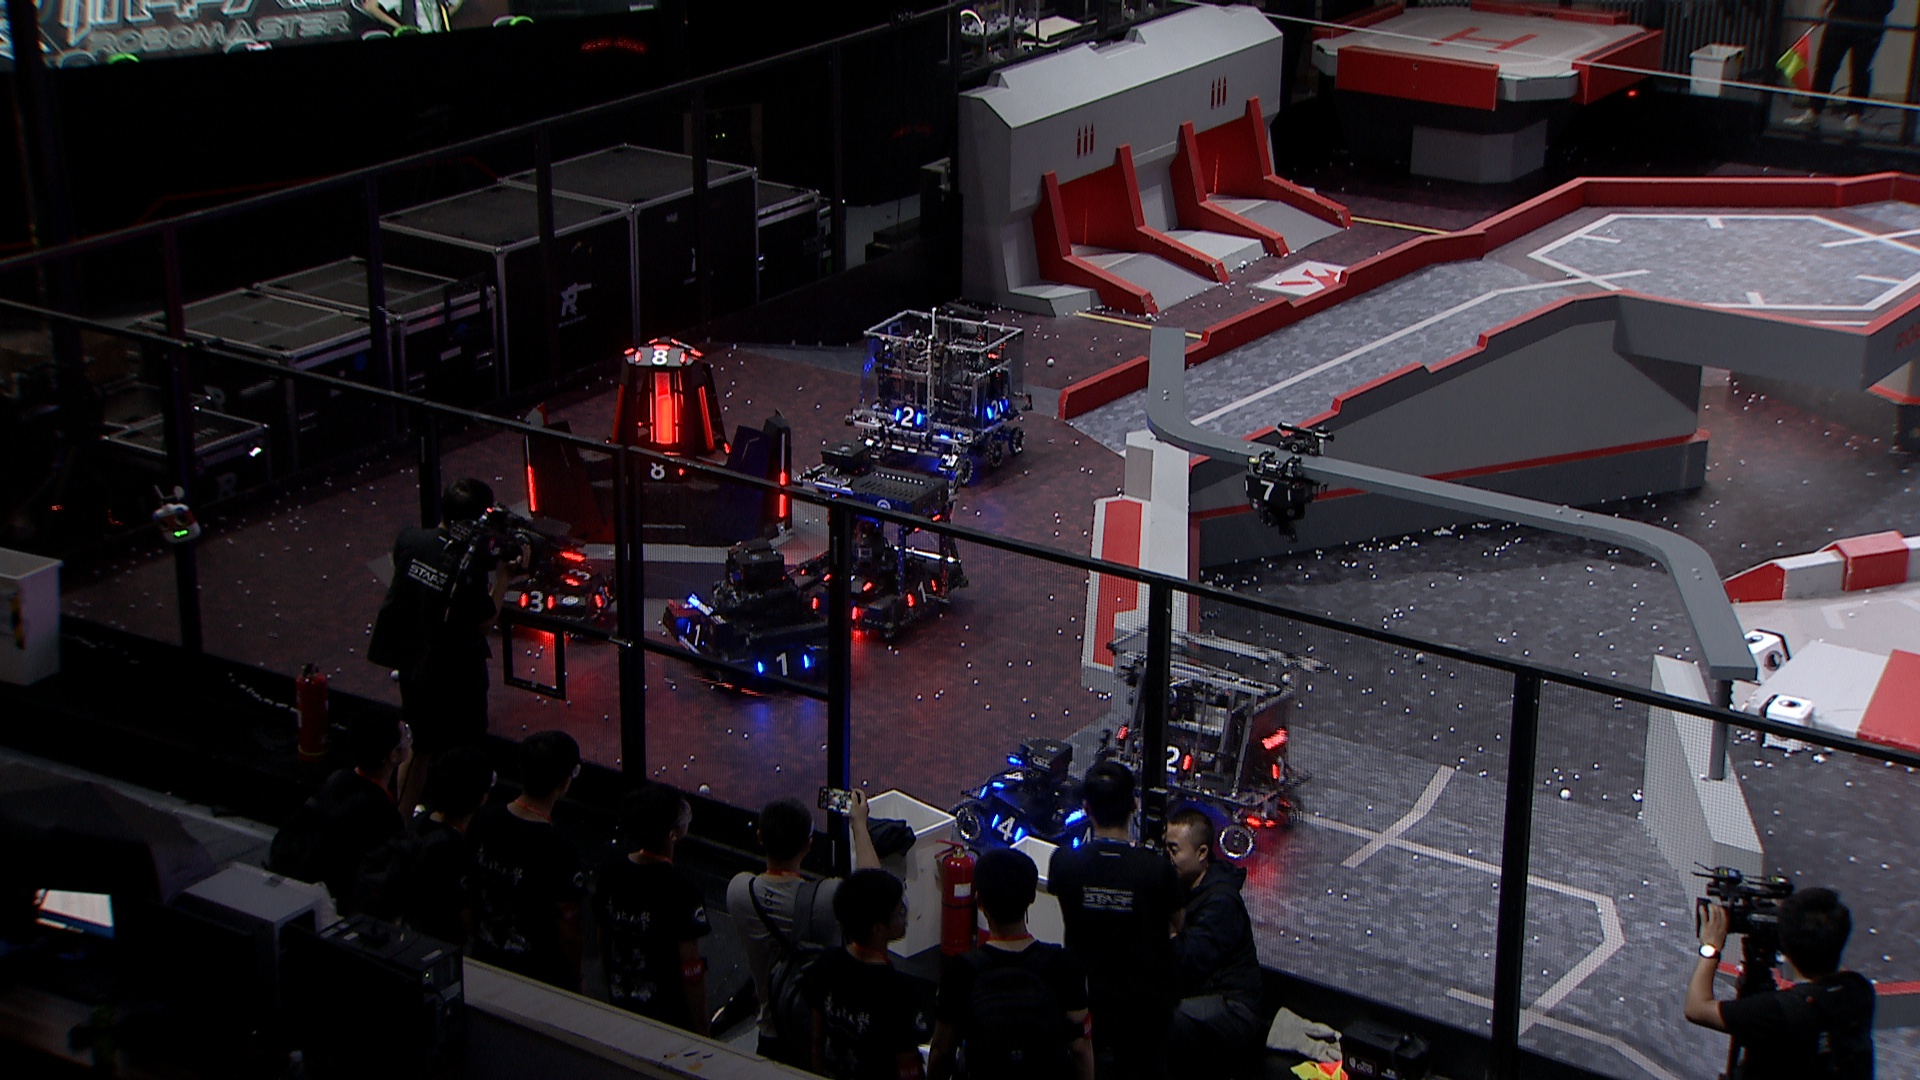armor: (646, 392, 680, 443), (754, 650, 808, 679), (695, 384, 716, 454), (1244, 479, 1294, 505), (905, 575, 939, 609), (989, 811, 1027, 841), (636, 458, 686, 480), (1162, 742, 1195, 775), (609, 382, 626, 446), (560, 560, 596, 589), (516, 589, 556, 615), (633, 349, 688, 367), (992, 767, 1025, 793), (524, 465, 541, 513), (774, 469, 790, 518), (683, 618, 709, 647), (893, 405, 924, 429), (589, 583, 615, 609), (1069, 825, 1095, 851), (1269, 756, 1292, 782), (986, 396, 1007, 419)
base: (516, 334, 794, 549)
car: (1087, 618, 1324, 855), (782, 440, 963, 642), (836, 306, 1031, 484), (661, 535, 847, 699), (953, 735, 1116, 878), (479, 513, 621, 640)
watcher: (1238, 419, 1335, 547)
